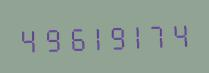four: (17, 23, 38, 55), (171, 17, 192, 49)
nine: (105, 19, 126, 52), (39, 22, 60, 54)
one: (83, 20, 104, 52), (127, 19, 148, 51)
seven: (149, 18, 170, 50)
six: (61, 21, 82, 53)
